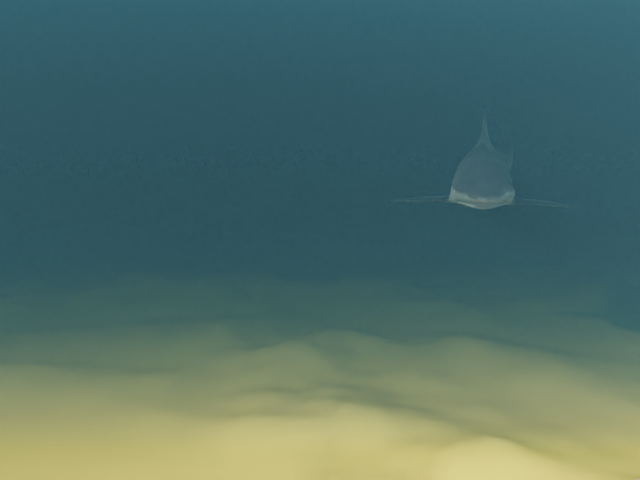Carribean Shark.001: (388, 107, 579, 209)
